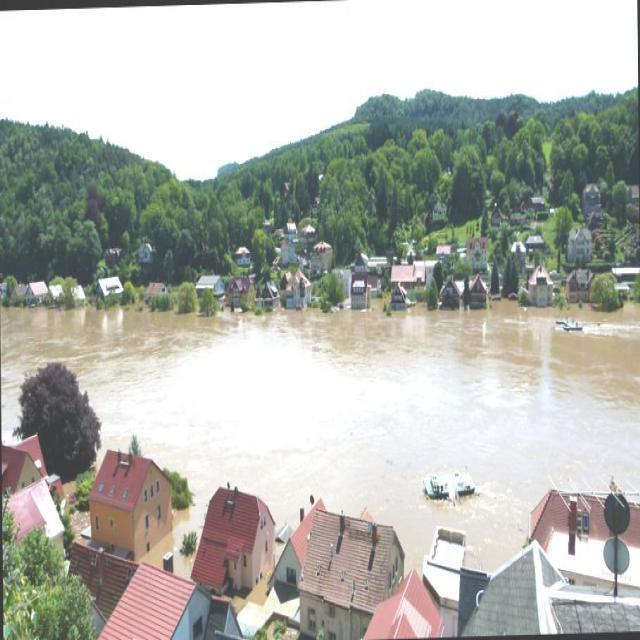flood: (0, 265, 639, 537)
